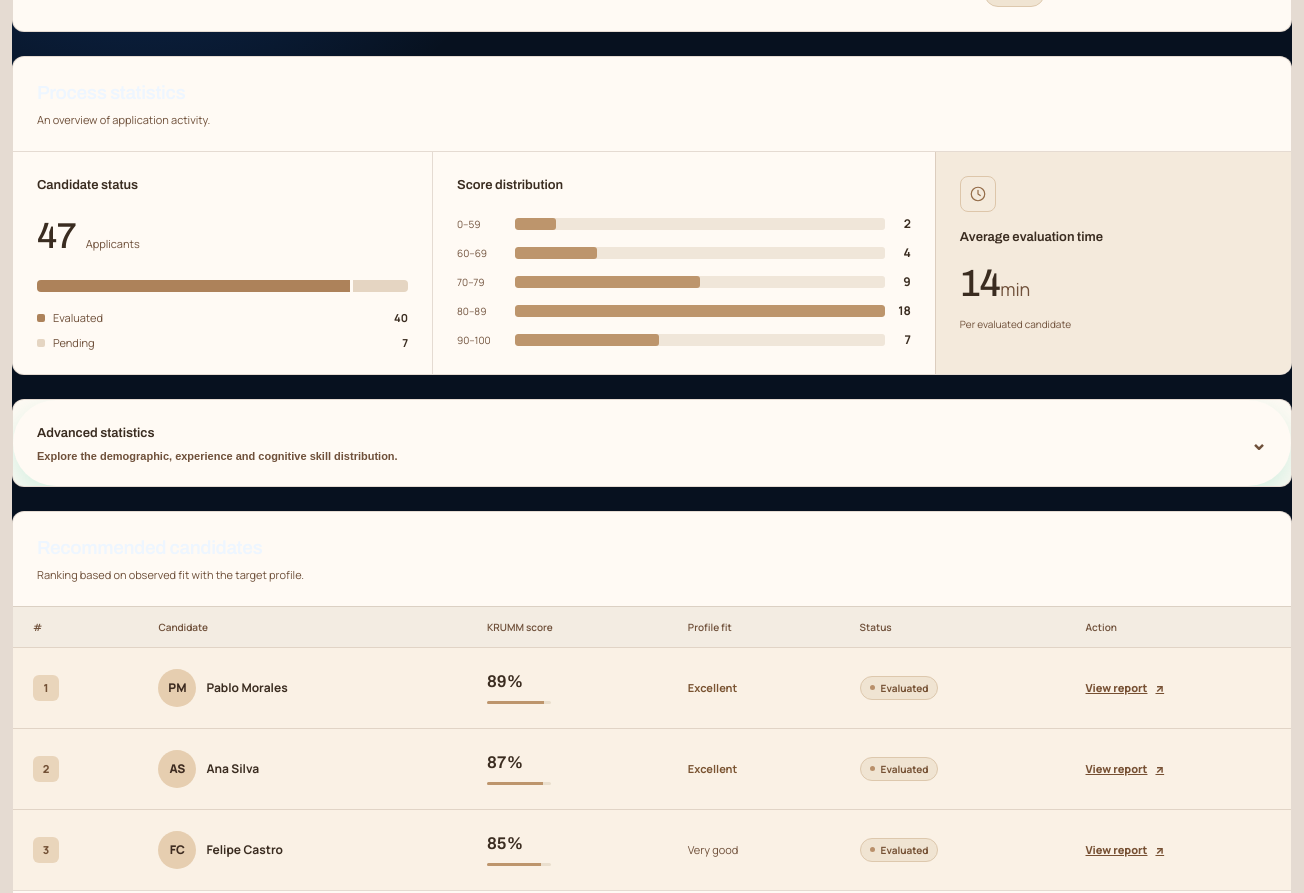
D. CompanyProcessDetailPage — EN (paridad i18n) › advanced EN: cognitive skills labels de la referencia
(page scrolled)
Step 1. Click the button "Advanced statistics" → [96, 433], box [13,400,1291,486]
(page scrolled)
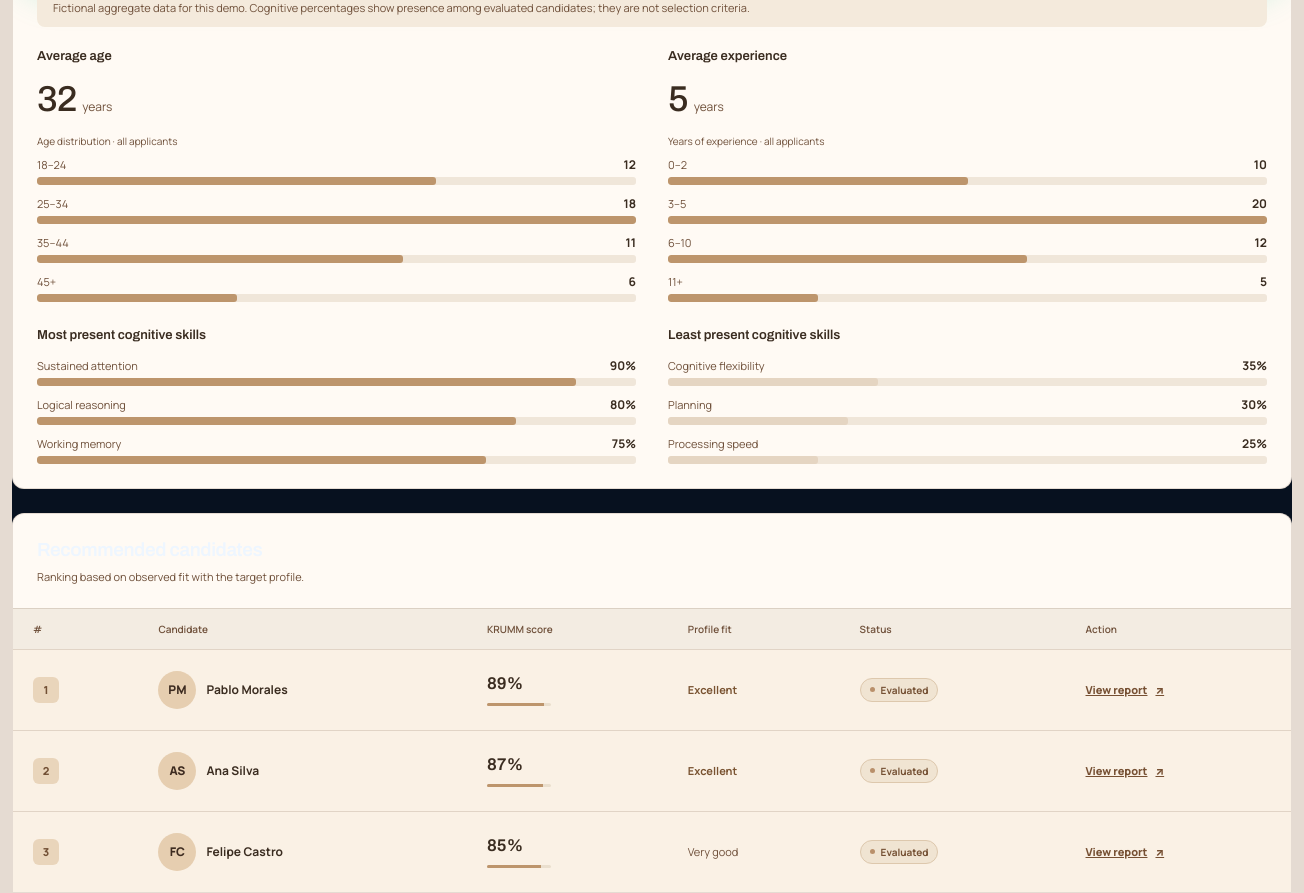
Result: the heading "Most present cognitive skills" is shown at [37,328,206,342]
Result: the text "Sustained attention" is shown at [37,358,138,373]
Result: the text "90%" is shown at [610,357,636,374]
